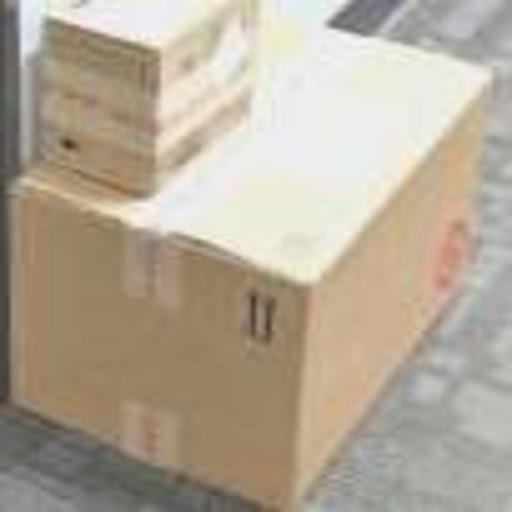Other: (15, 30, 490, 504), (40, 0, 267, 182)
